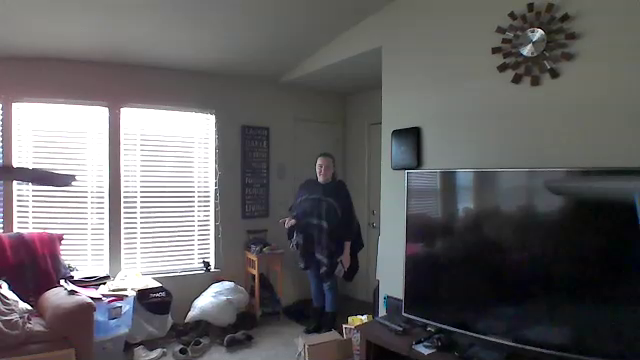land: (276, 215, 301, 233)
